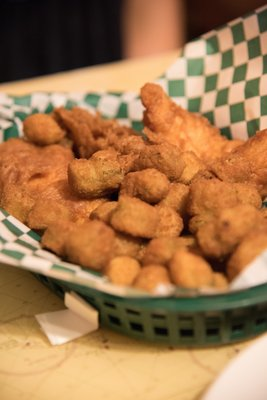curry: (3, 5, 267, 351)
